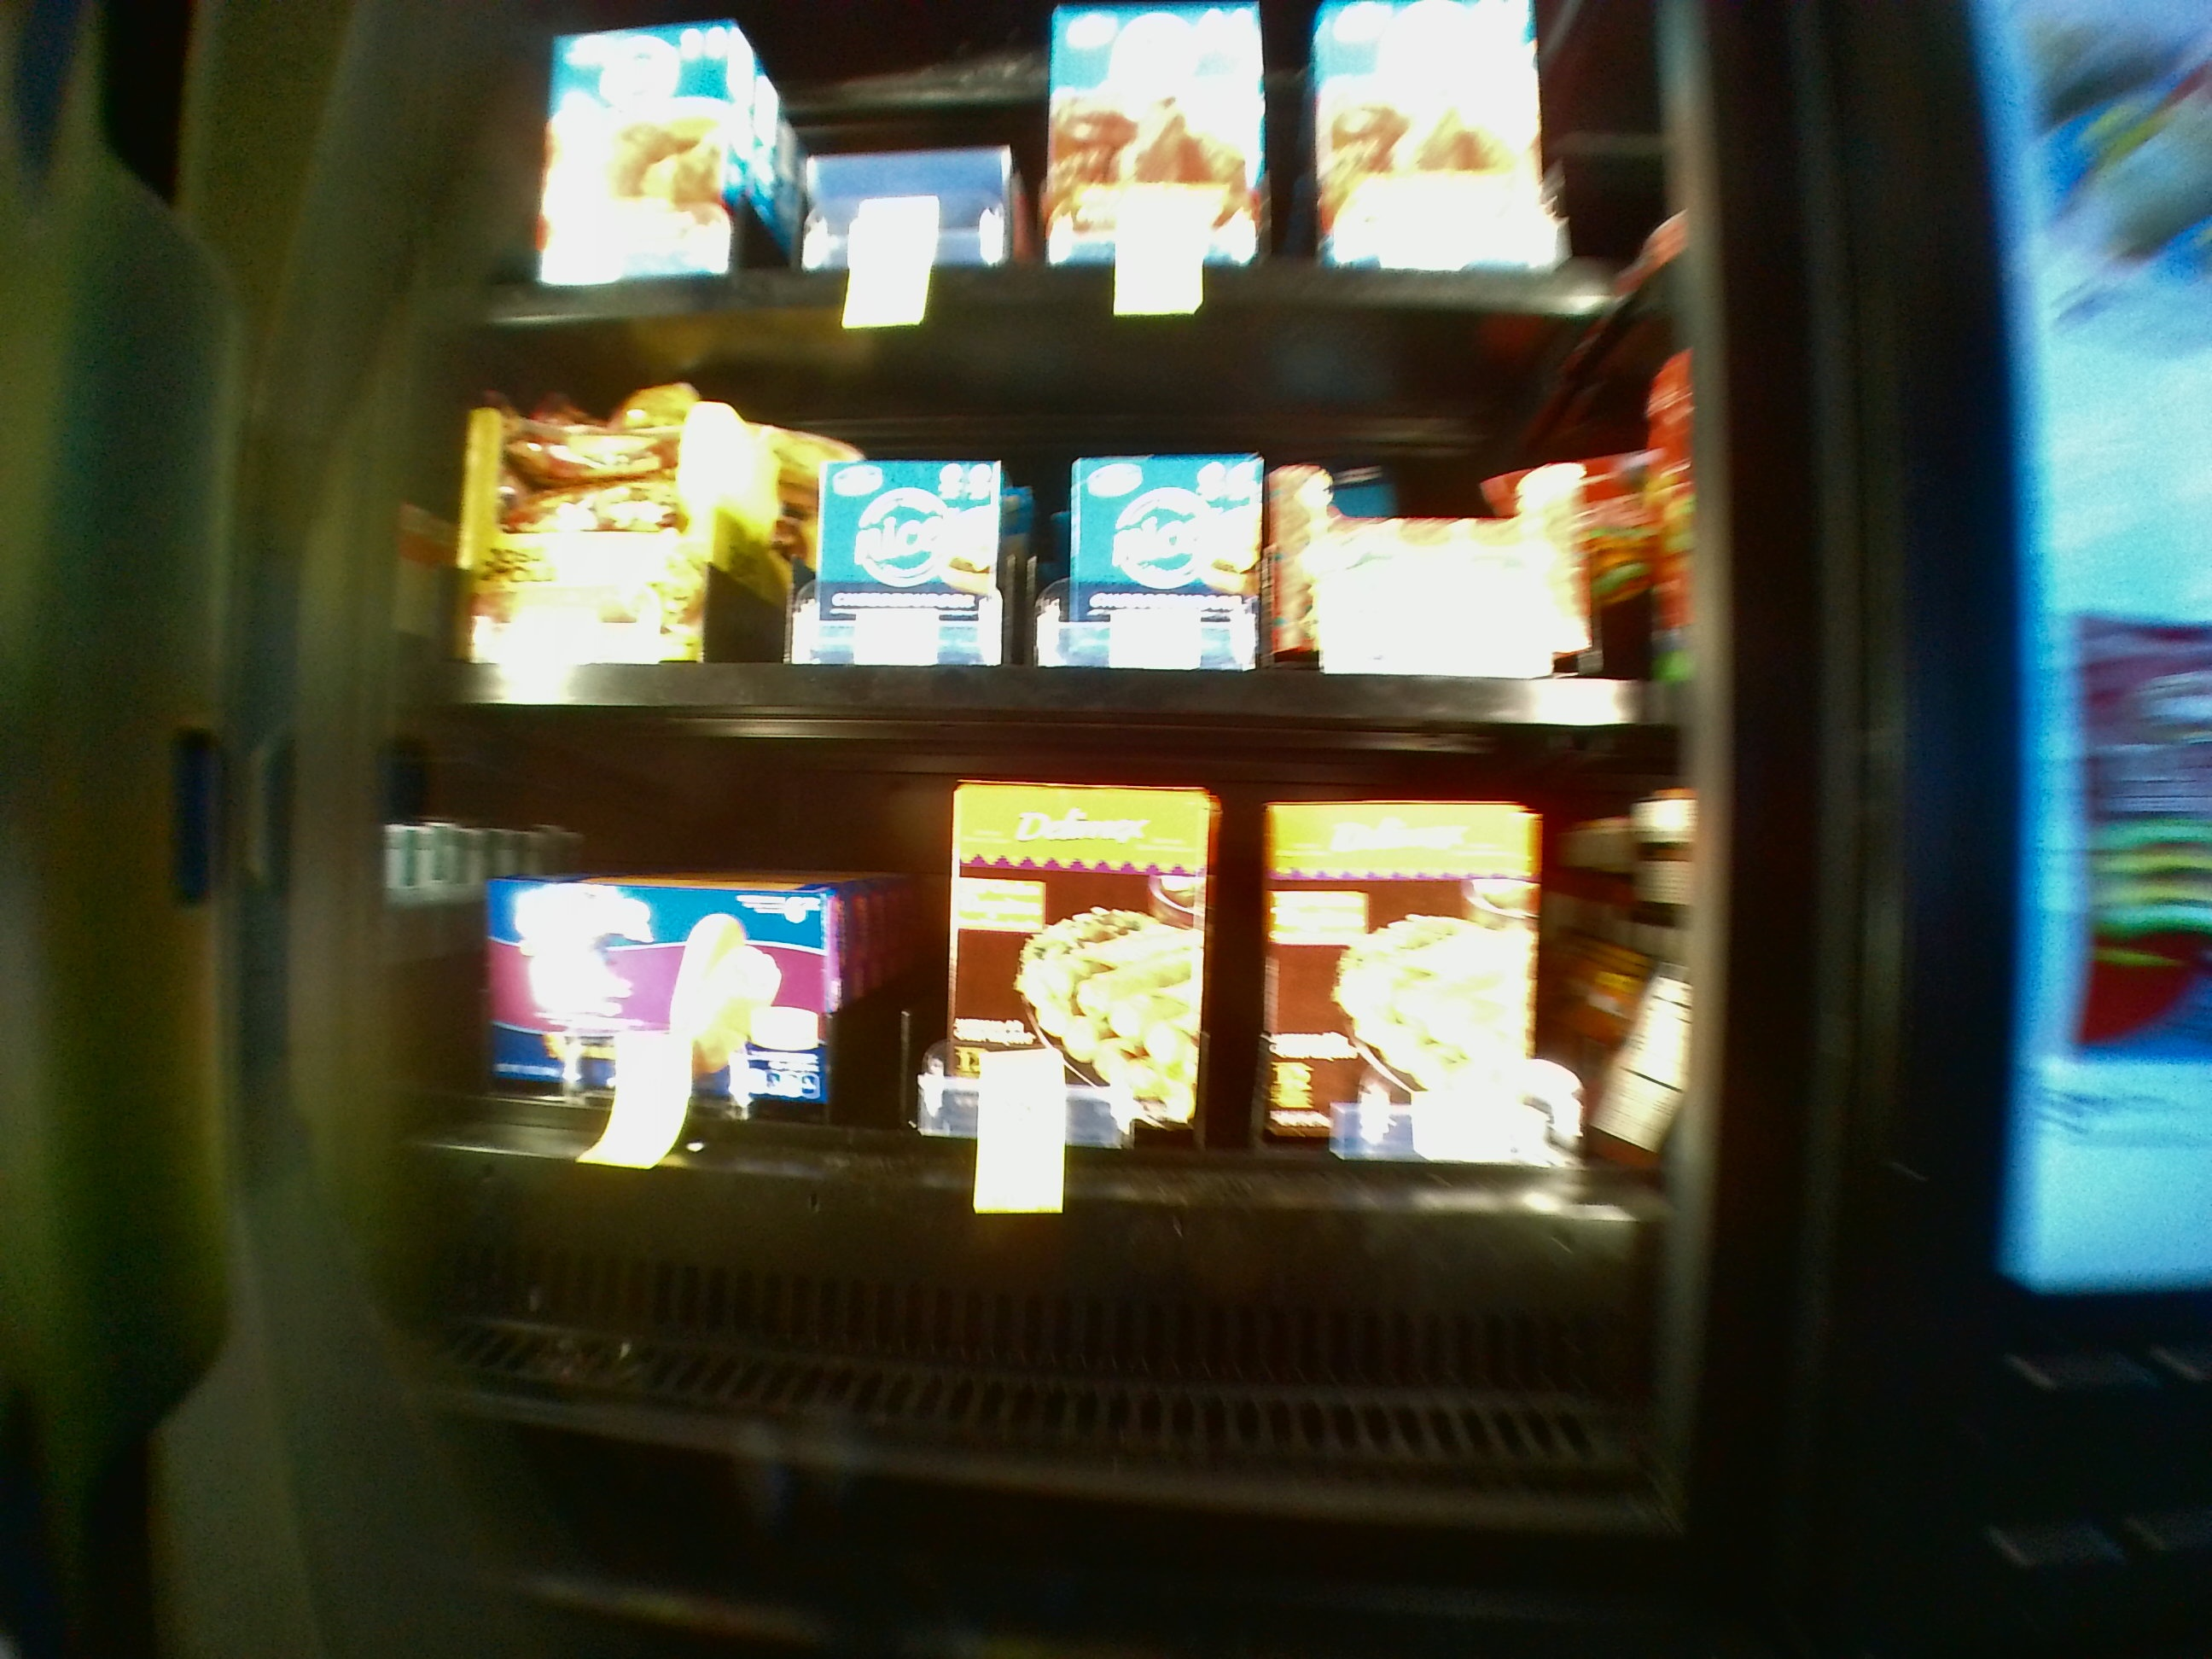shelf: (376, 742, 1669, 1485), (383, 315, 1667, 728)
